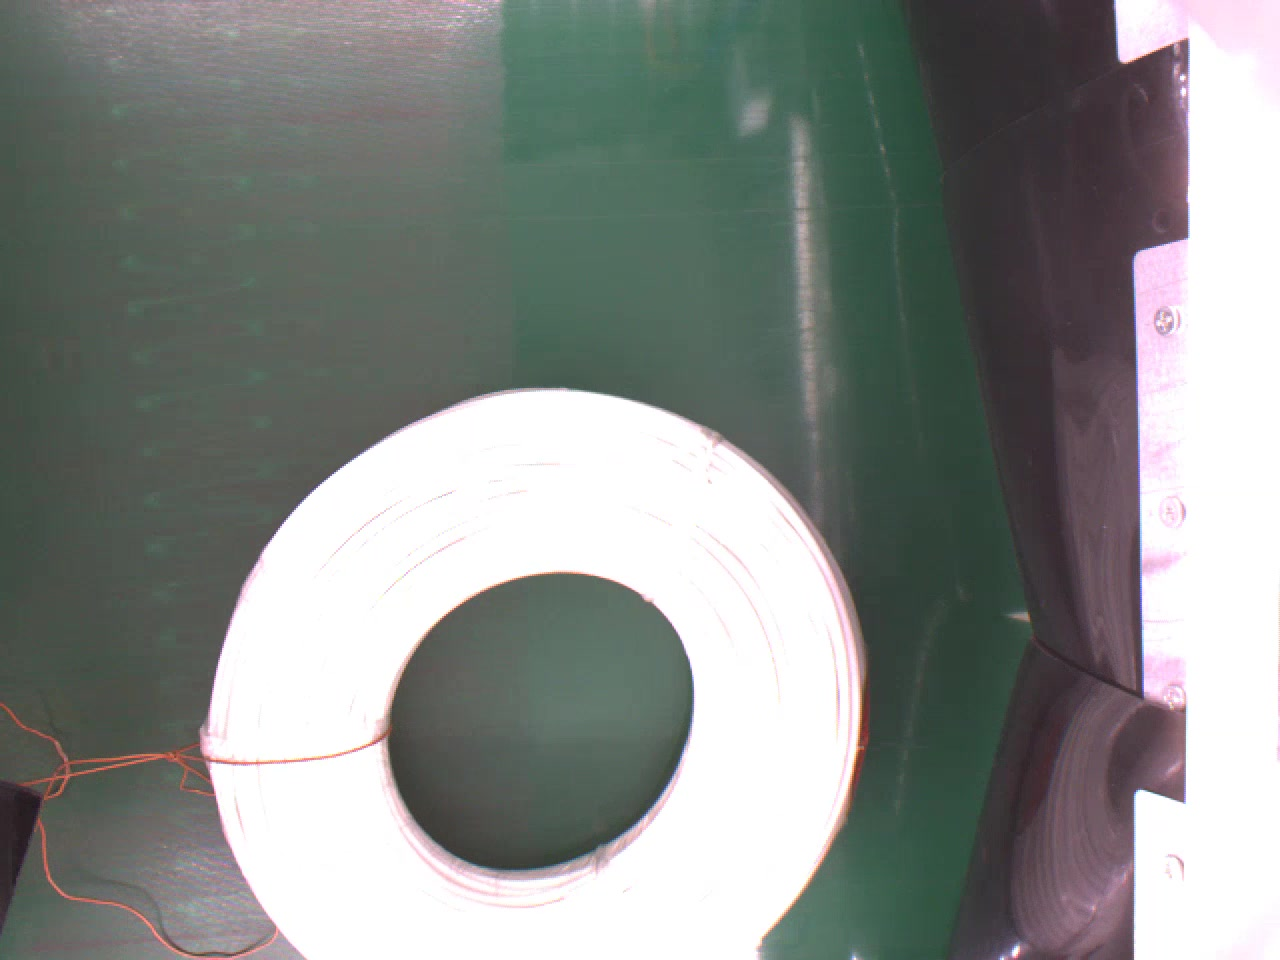white: (198, 382, 869, 960)
